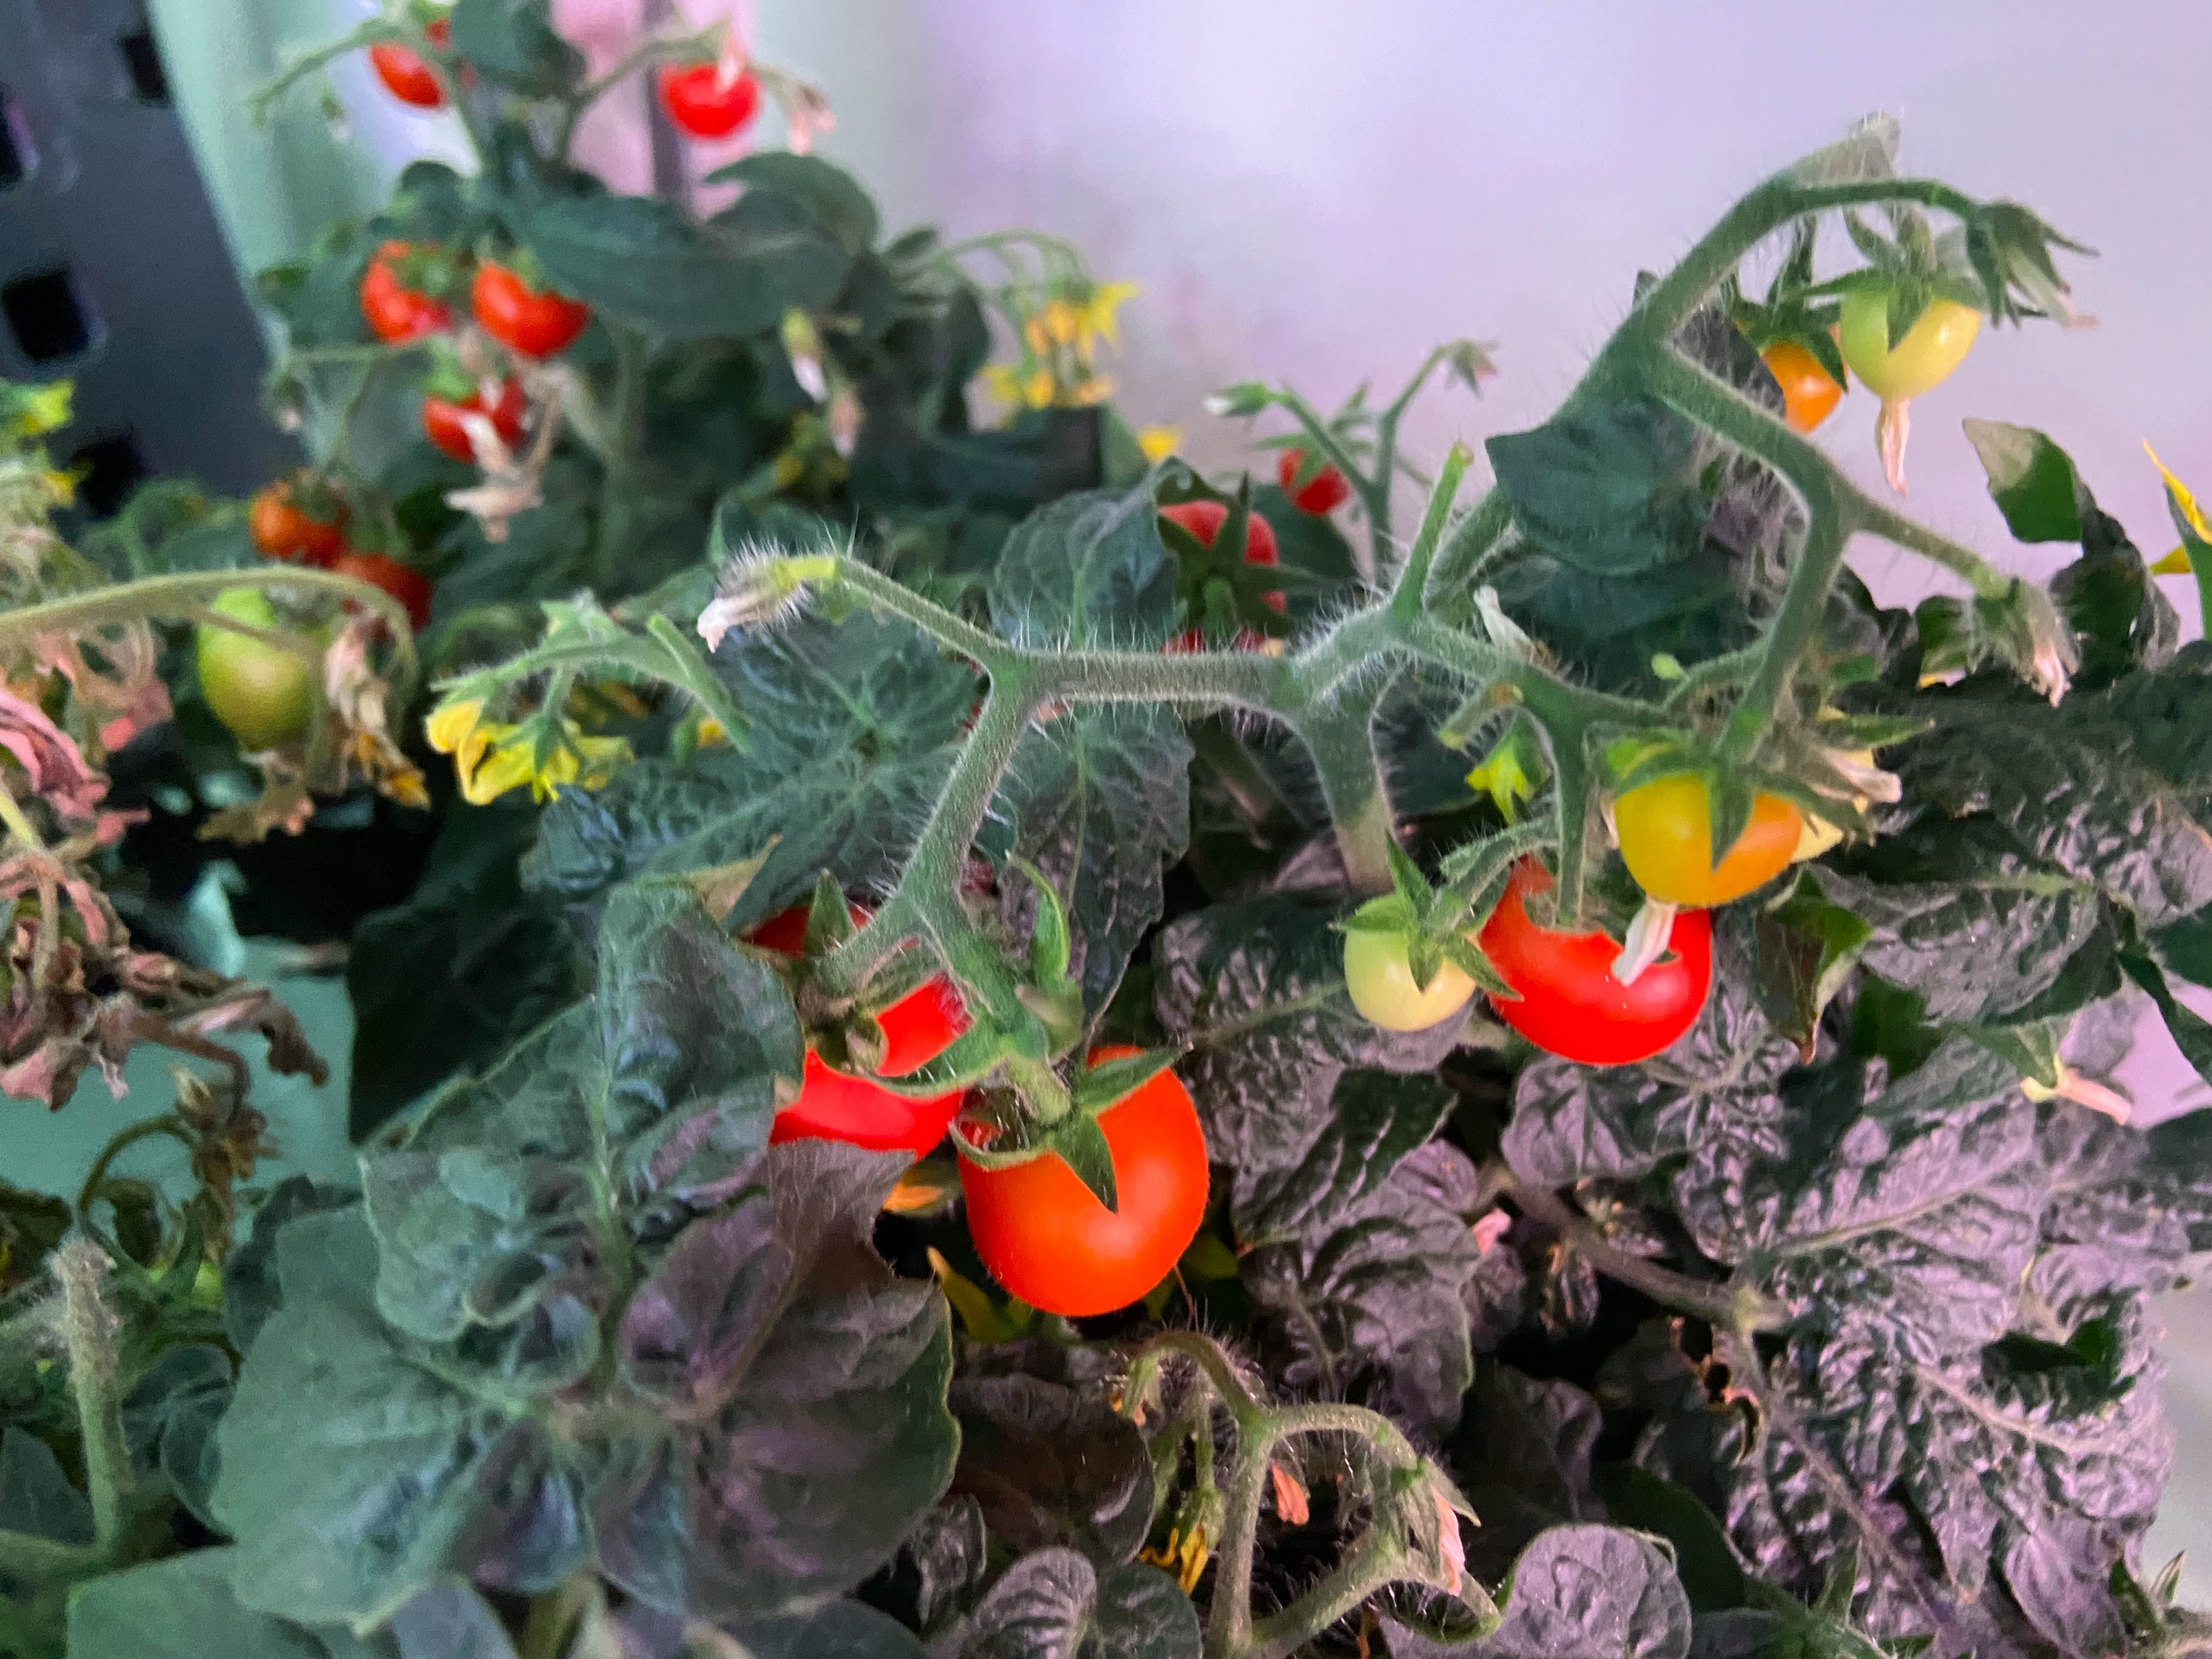green: (193, 582, 355, 744), (1832, 261, 1984, 401), (1343, 884, 1484, 1032)
red: (954, 1033, 1209, 1317), (1474, 842, 1710, 1065), (765, 939, 974, 1162), (1606, 714, 1818, 906), (1137, 488, 1294, 650), (472, 253, 589, 359), (1757, 321, 1848, 444), (413, 361, 526, 457), (371, 17, 477, 112), (359, 242, 455, 343), (334, 535, 444, 622), (660, 49, 761, 141), (251, 481, 352, 563), (1282, 450, 1350, 518)
